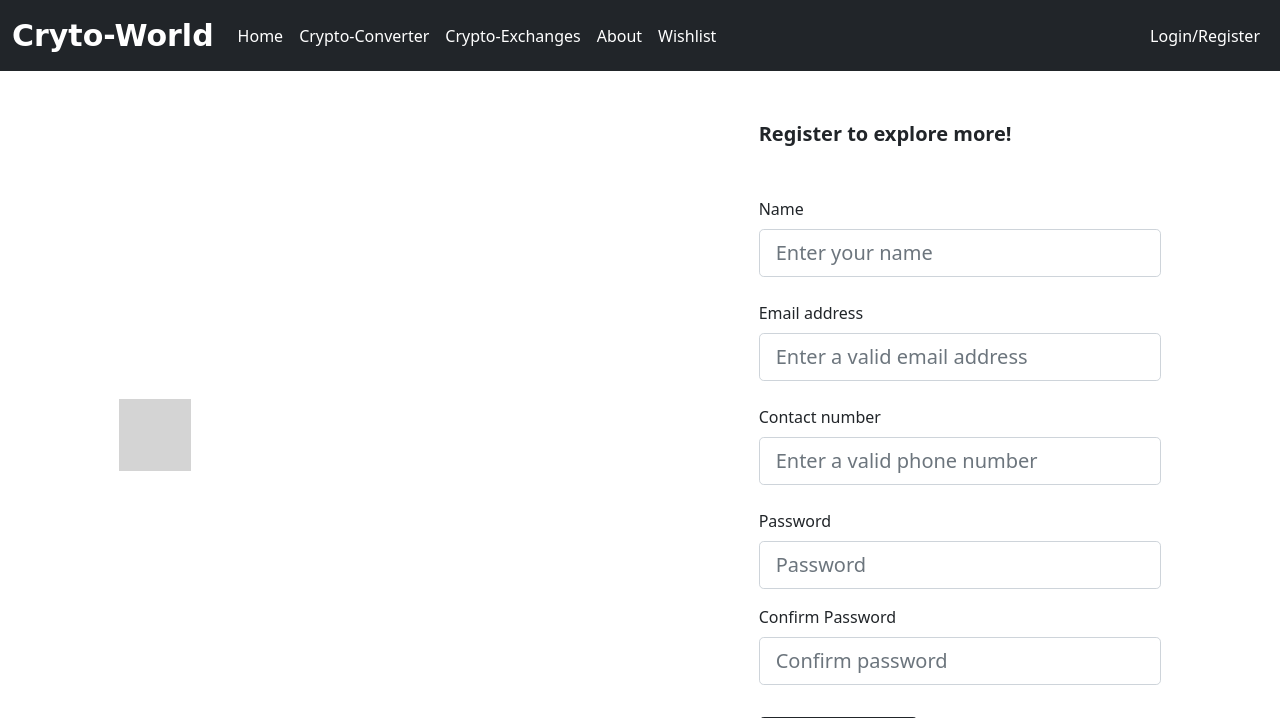
Scenario: Crypto World e2e testing › Create new user with password not matching
In the field with id "registername": (961, 253) [759,229,1162,277], type "Tarun Shekher"
In the field with id "registeremail": (961, 357) [759,333,1162,381], type "tarun9145@gmail.com"
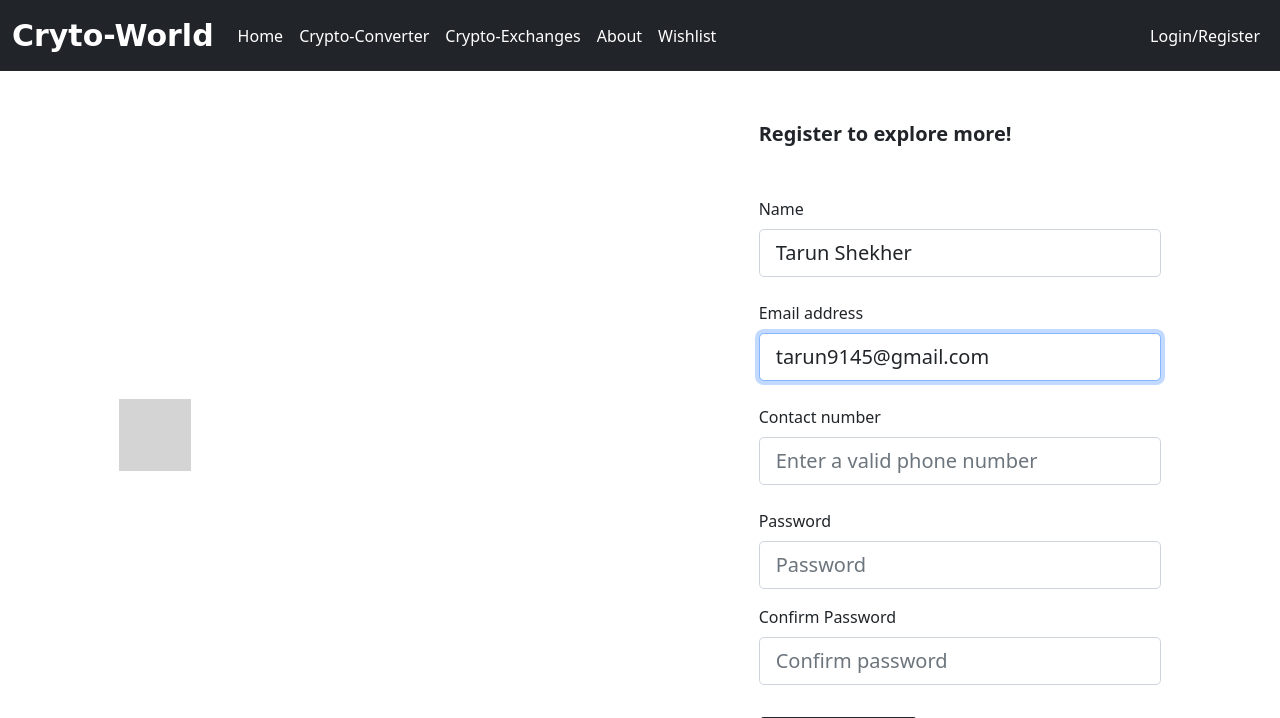
In the number field with id "registercontact": (961, 461) [759,437,1162,485], type "7355962158"
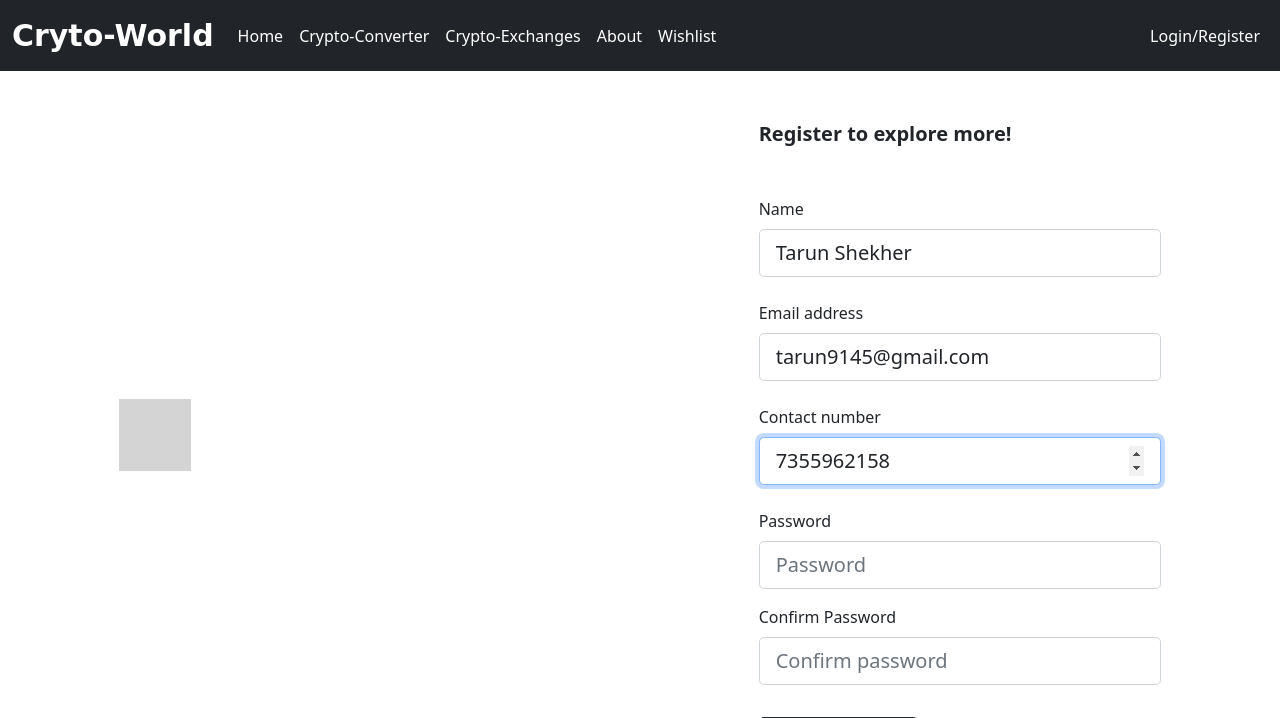
In the password field with id "registerpassword": (961, 565) [759,541,1162,589], type "1234556"
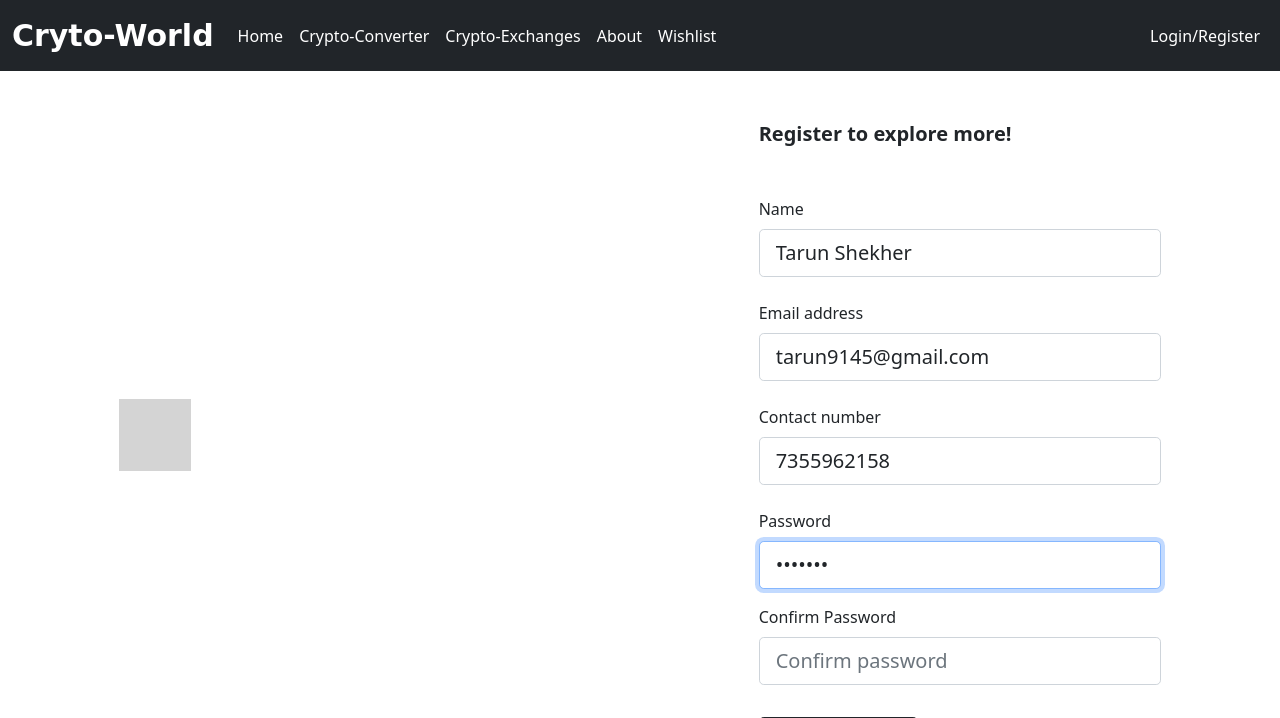
In the password field with id "registerconfirmpassword": (961, 661) [759,637,1162,685], type "123456"
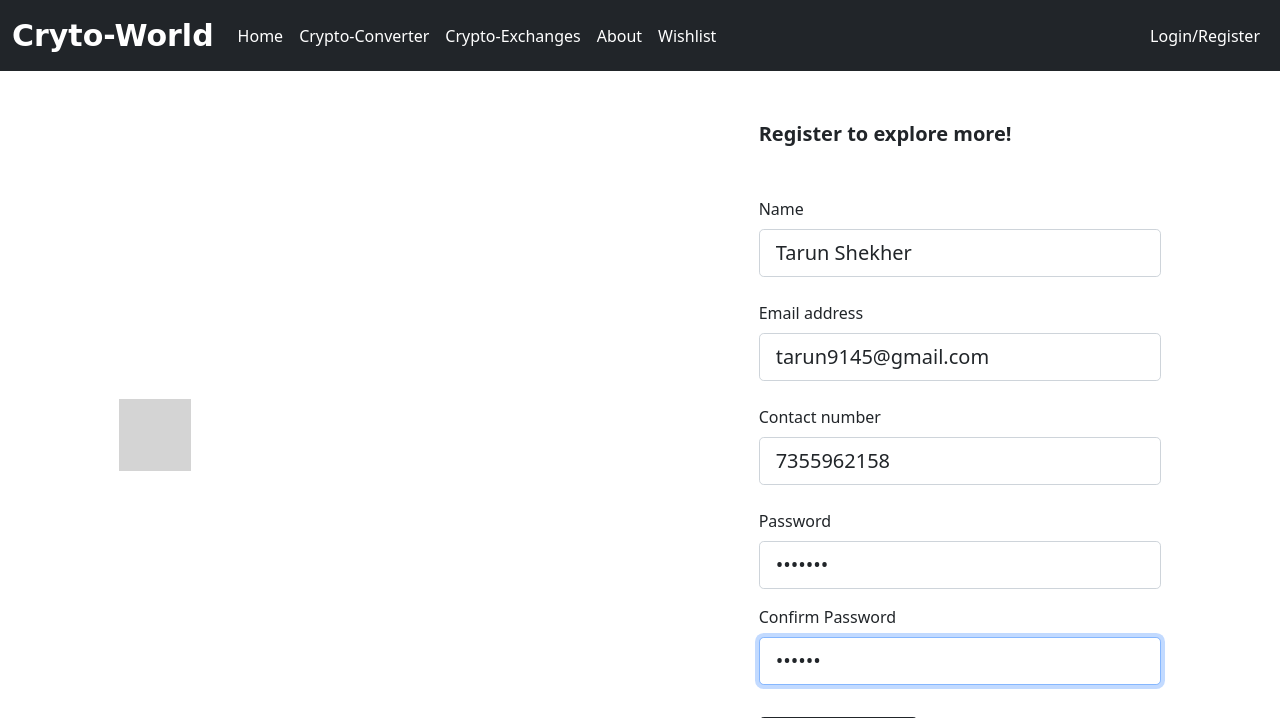
Scroll
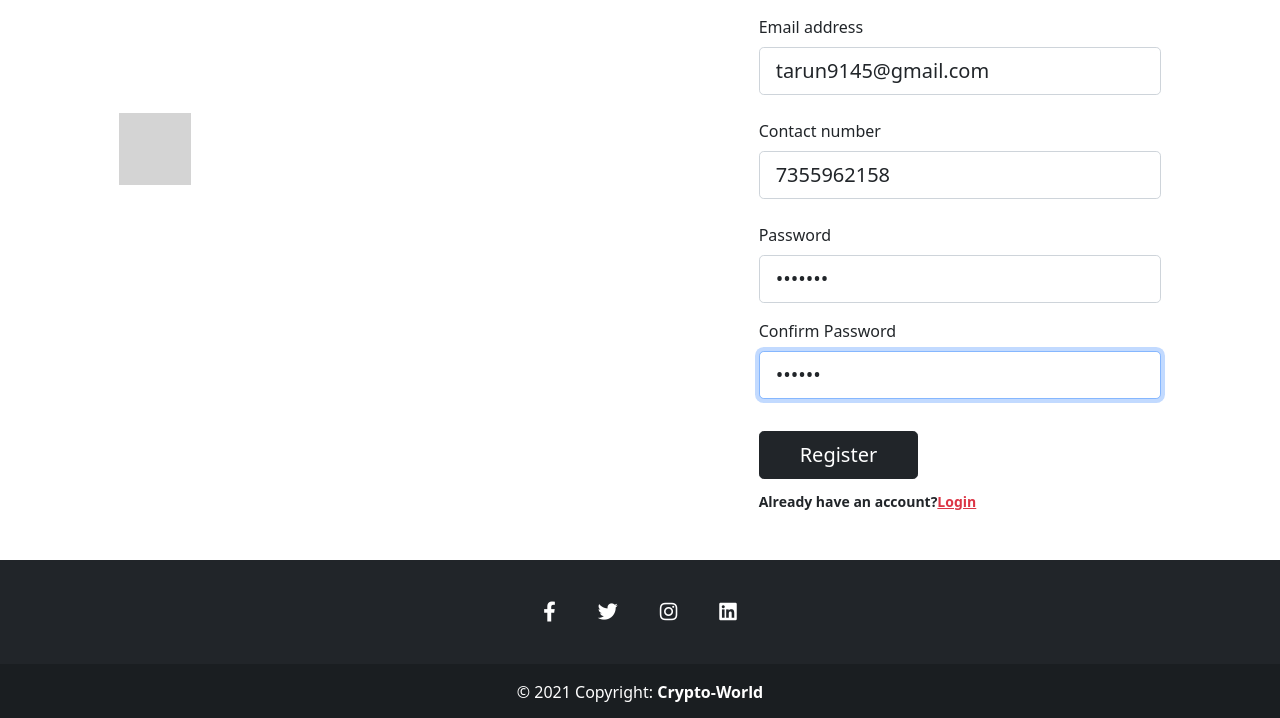
Click the button with id "registerbtn": (839, 455) [759,431,919,479]
(page scrolled)
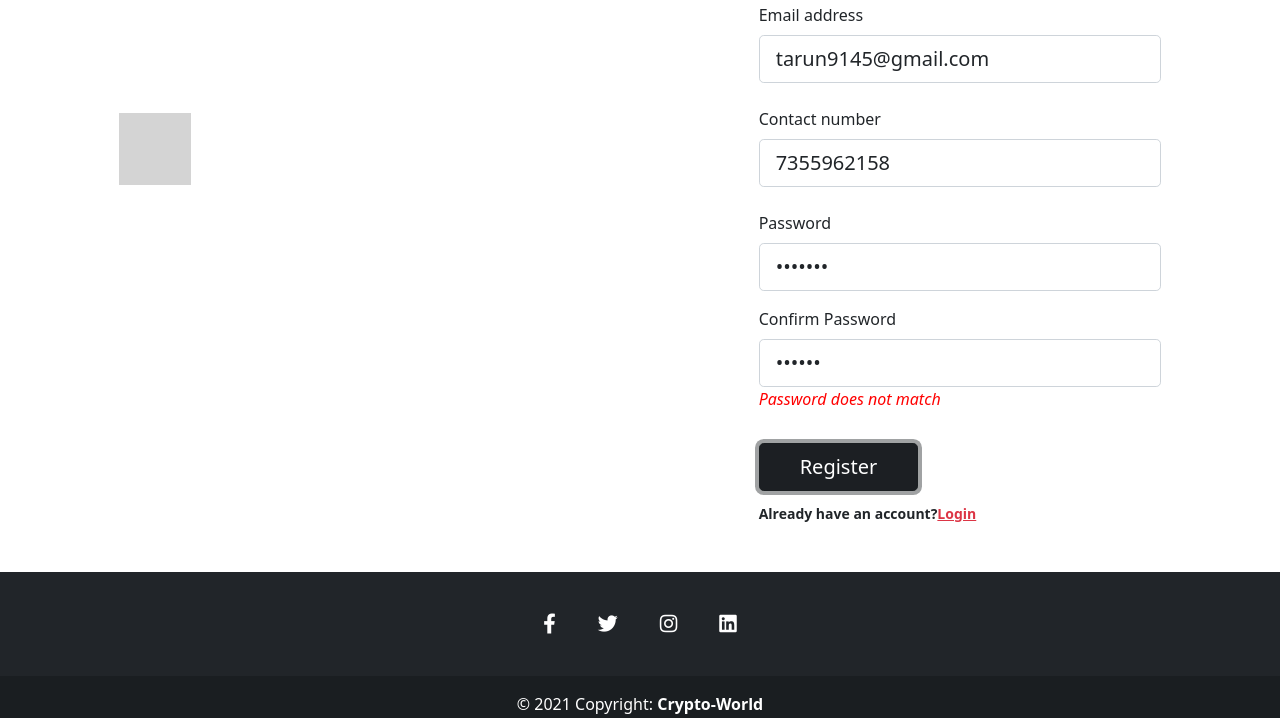
Result: the text with id "msg" reads "Password does not match" at [759,388,941,410]
